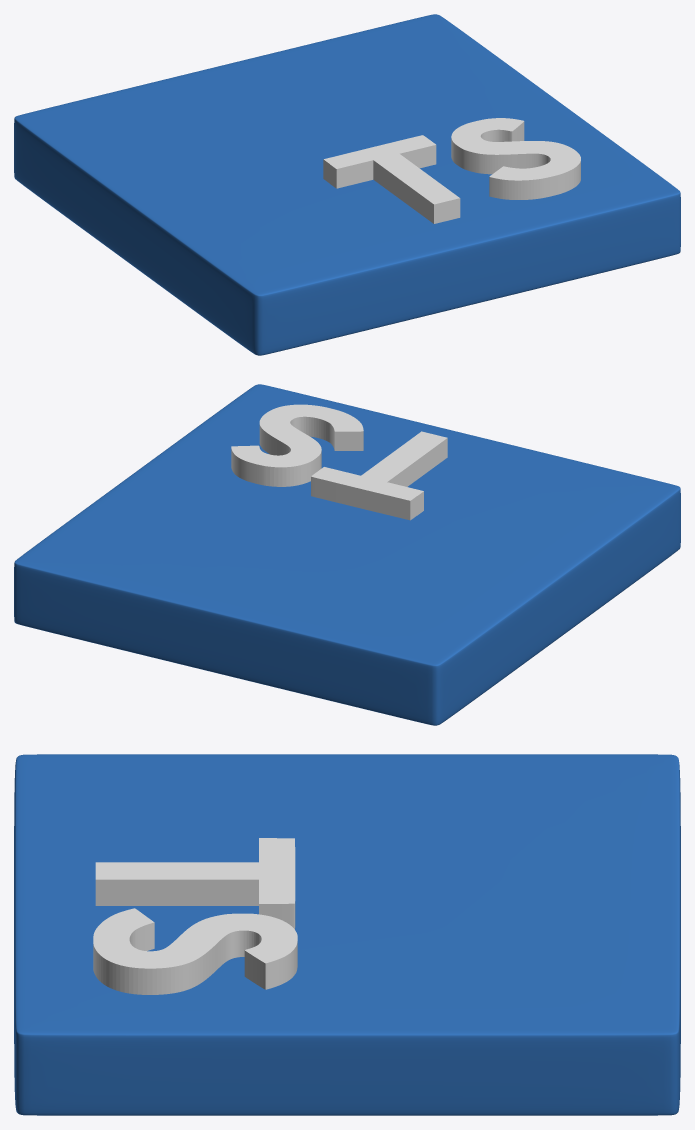
The picture shows the model from 3 angles, top to bottom: view 1: azimuth 30°, elevation 25°; view 2: azimuth 150°, elevation 25°; view 3: azimuth 270°, elevation 25°; orthographic projection. The views are drawn at different scales.
Parts seen in each view (by area): view 1: backGround, Curve.001; view 2: backGround, Curve.001; view 3: backGround, Curve.001.
Part boxes in pixels (x1,y1,x2,y2): backGround: (14,14,680,355); Curve.001: (323,118,580,223); backGround: (14,384,680,725); Curve.001: (231,404,447,520); backGround: (14,754,680,1115); Curve.001: (93,838,297,994).
Bounding box in the file's own units: 0.1412 × 0.0317 × 0.1412.
